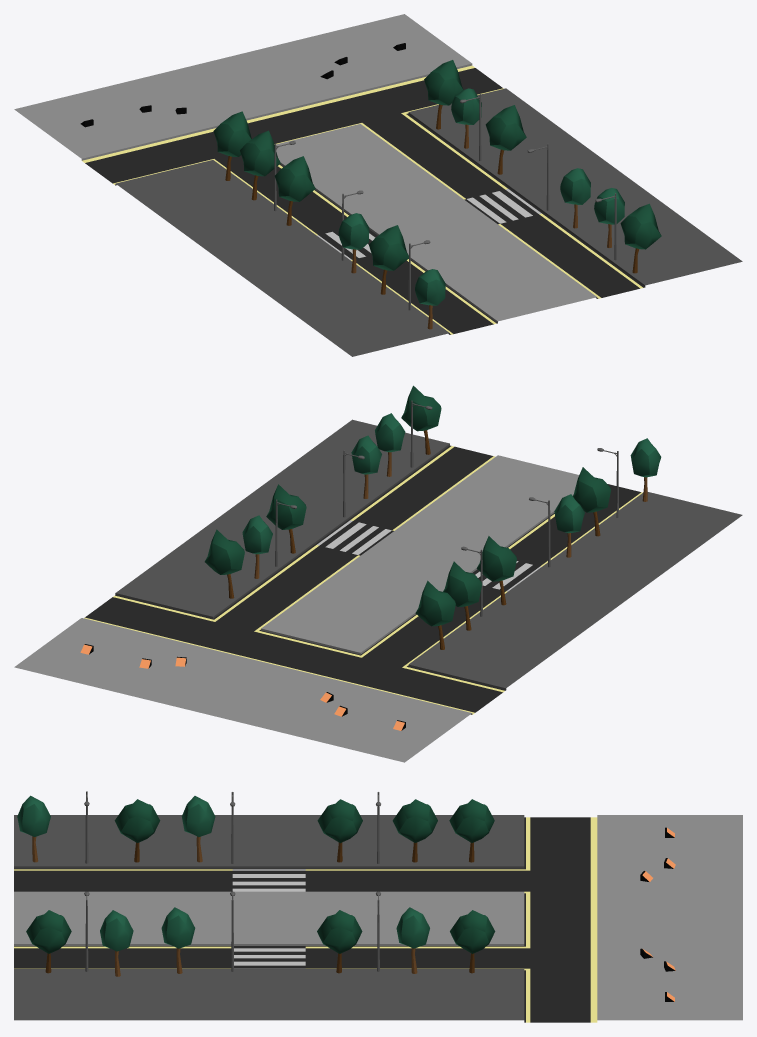
Rendered from Block04.fbx.
3 views of the same model, one above another, from view 1: azimuth 30°, elevation 25°; view 2: azimuth 150°, elevation 25°; view 3: azimuth 270°, elevation 25° (orthographic). The views are drawn at different scales.
Parts seen in each view (by area): view 1: Block04; view 2: Block04; view 3: Block04.
Boxes of the visible parts, x1,y1,x2,y2 form: Block04: [14, 14, 742, 356]; Block04: [14, 385, 742, 762]; Block04: [14, 791, 742, 1022].
Size of the model in its own units: 2000 by 336 by 3000.
Materials: 2 (1 with a texture image).
